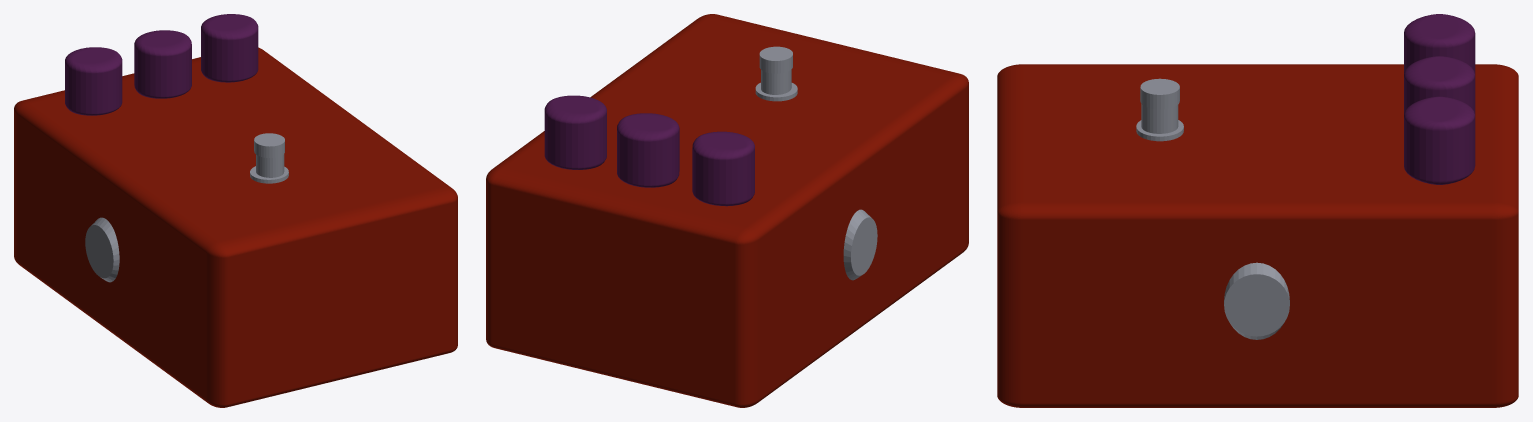
Rendered from test_pedal.glb.
The picture shows the model from 3 angles, left to right: view 1: azimuth 30°, elevation 25°; view 2: azimuth 150°, elevation 25°; view 3: azimuth 270°, elevation 25°; orthographic projection. The views are drawn at different scales.
Parts seen in each view (by area): view 1: Box, Knob 1, Knob 3, Knob 2, Output.001, Switch Washer.003, Switch Washer.002; view 2: Box, Knob 1, Knob 2, Knob 3, Output.001, Switch Washer.003, Switch Washer.002; view 3: Box, Knob 2, Output, Knob 3, Knob 1, Switch Washer.003, Switch Washer.002, Switch Washer.001.
Part boxes in pixels (<box>): Box: <box>14,47,457,407</box>; Knob 1: <box>134,30,191,98</box>; Knob 3: <box>65,47,122,115</box>; Knob 2: <box>201,14,258,82</box>; Output.001: <box>85,217,119,282</box>; Switch Washer.003: <box>254,133,284,157</box>; Switch Washer.002: <box>256,154,284,177</box>; Box: <box>486,14,968,407</box>; Knob 1: <box>617,113,679,187</box>; Knob 2: <box>544,95,606,169</box>; Knob 3: <box>692,131,754,206</box>; Output.001: <box>843,209,877,280</box>; Switch Washer.003: <box>759,46,792,73</box>; Switch Washer.002: <box>761,69,791,94</box>; Box: <box>997,64,1518,407</box>; Knob 2: <box>1404,96,1475,184</box>; Output: <box>1224,262,1289,339</box>; Knob 3: <box>1404,14,1475,74</box>; Knob 1: <box>1404,56,1475,114</box>; Switch Washer.003: <box>1140,78,1179,109</box>; Switch Washer.002: <box>1141,104,1178,133</box>; Switch Washer.001: <box>1136,120,1183,141</box>.
Size of the model in its own units: 1.75 by 1.38 by 2.42.
